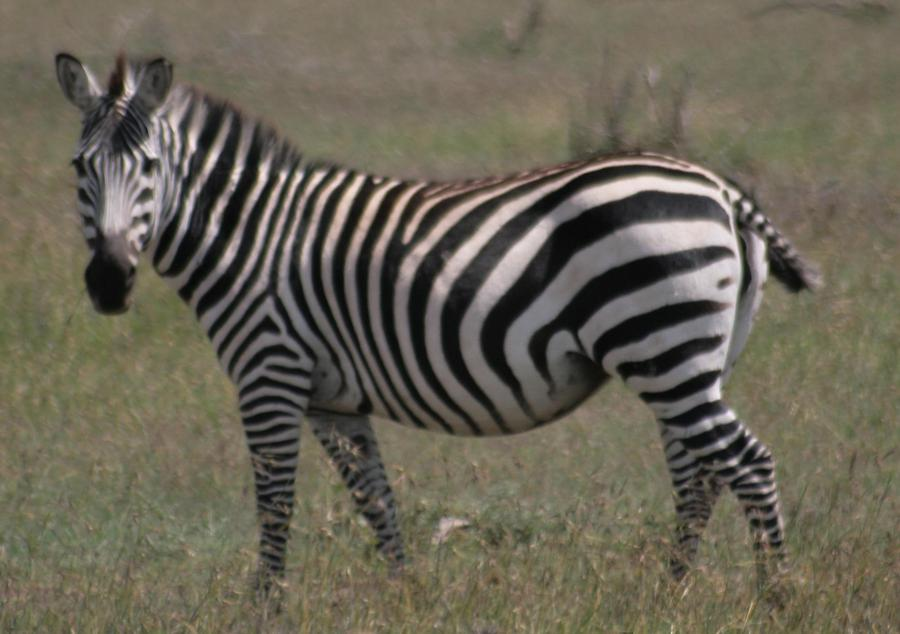zebra_plains: (189, 133, 731, 427)
